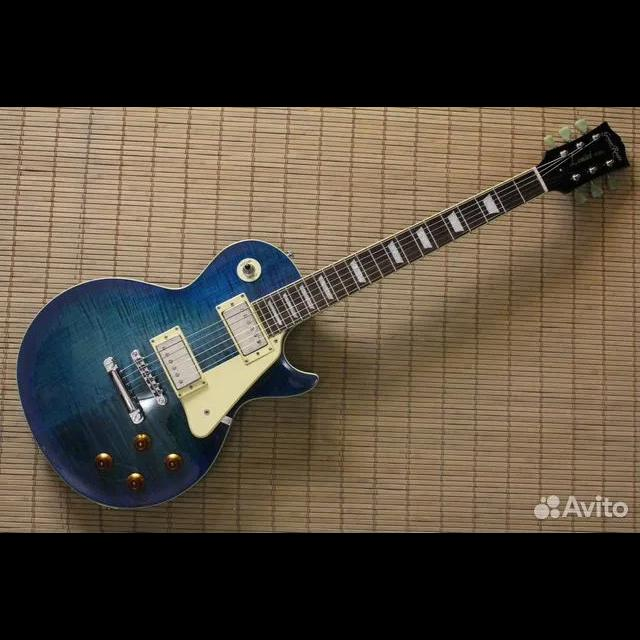Electric-Guitar: (17, 119, 628, 509)
